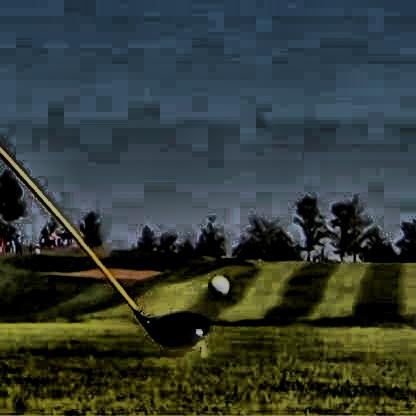golfball: (207, 272, 228, 293)
